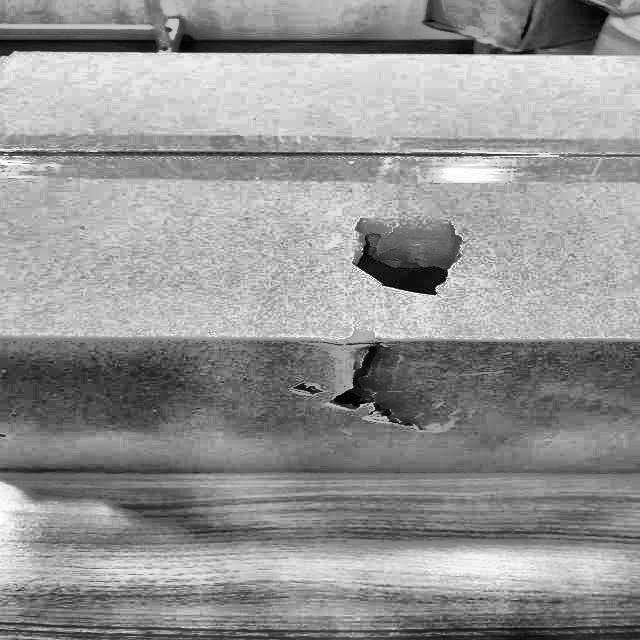box: (0, 48, 639, 481)
hole: (295, 330, 416, 428), (336, 216, 472, 296)
